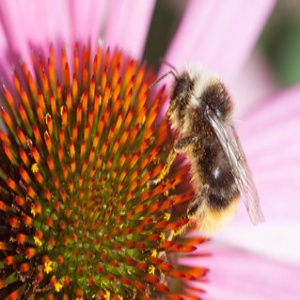bee: (149, 58, 267, 241)
